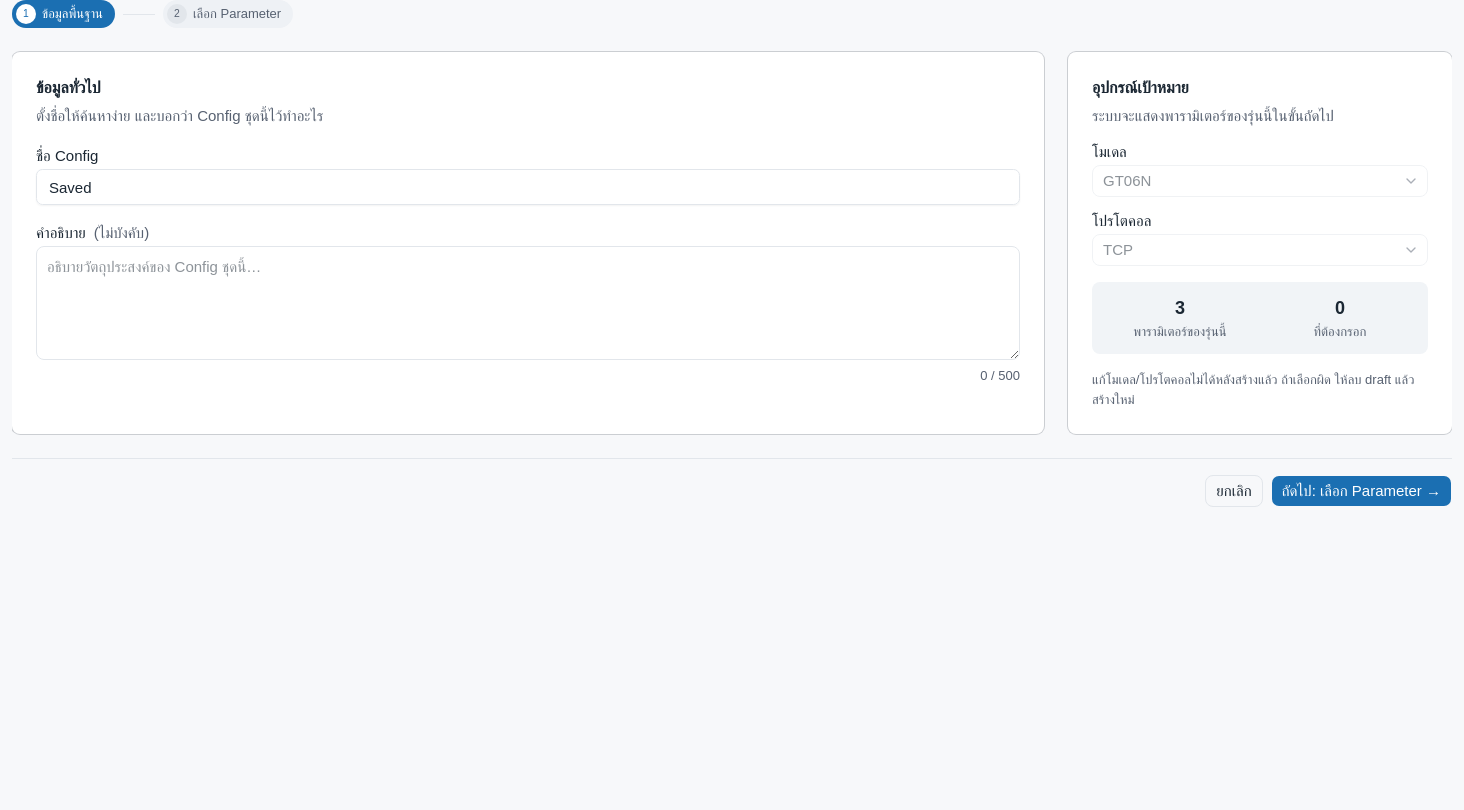
Test: ConfigWizard editor — validation, diff, JSON mode, reset › โหมดแก้: ไฮไลต์ช่องที่เปลี่ยน แสดงค่าเดิม และ Diff เก่า→ใหม่ก่อนบันทึก
The width and height of the screenshot is (1464, 810).
Click the button "ถัดไป: เลือก Parameter →": [1361, 491] box [1271,475,1452,507]
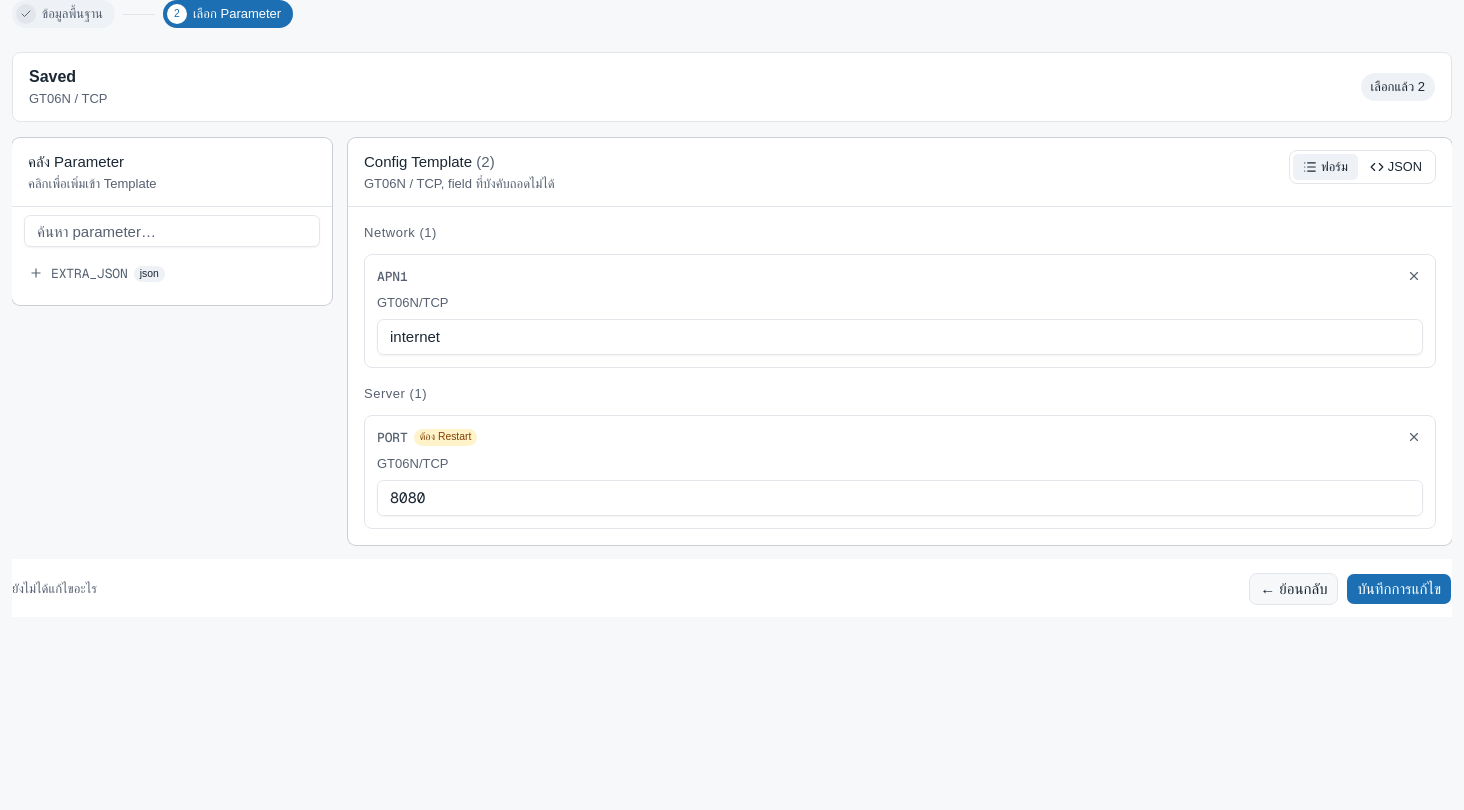
Expected: the field labelled "สิ่งที่จะเปลี่ยน" is not shown
Result: the text "ยังไม่ได้แก้ไขอะไร" is shown at [12,579,97,599]
Replace the text in the field with id "field-APN1" with "m2m": [900, 337] box [377,319,1423,355]
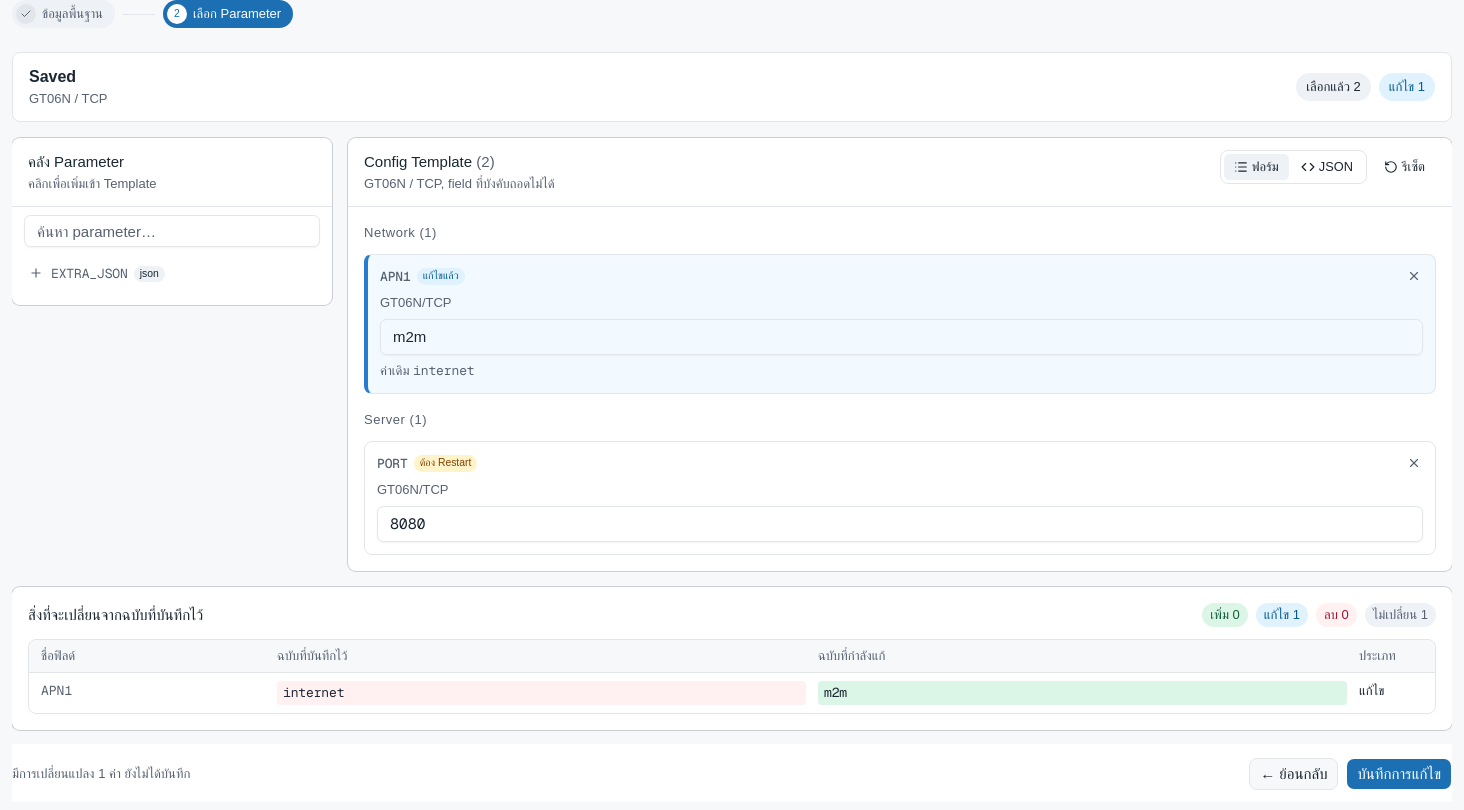
Result: the text "แก้ไขแล้ว" is shown at [417,268,465,285]
Result: the text "แก้ไข 1" next to "ลบ" is shown at [1256,603,1308,627]
Result: the text "internet" in the row of "m2m" is shown at [283,684,344,701]
